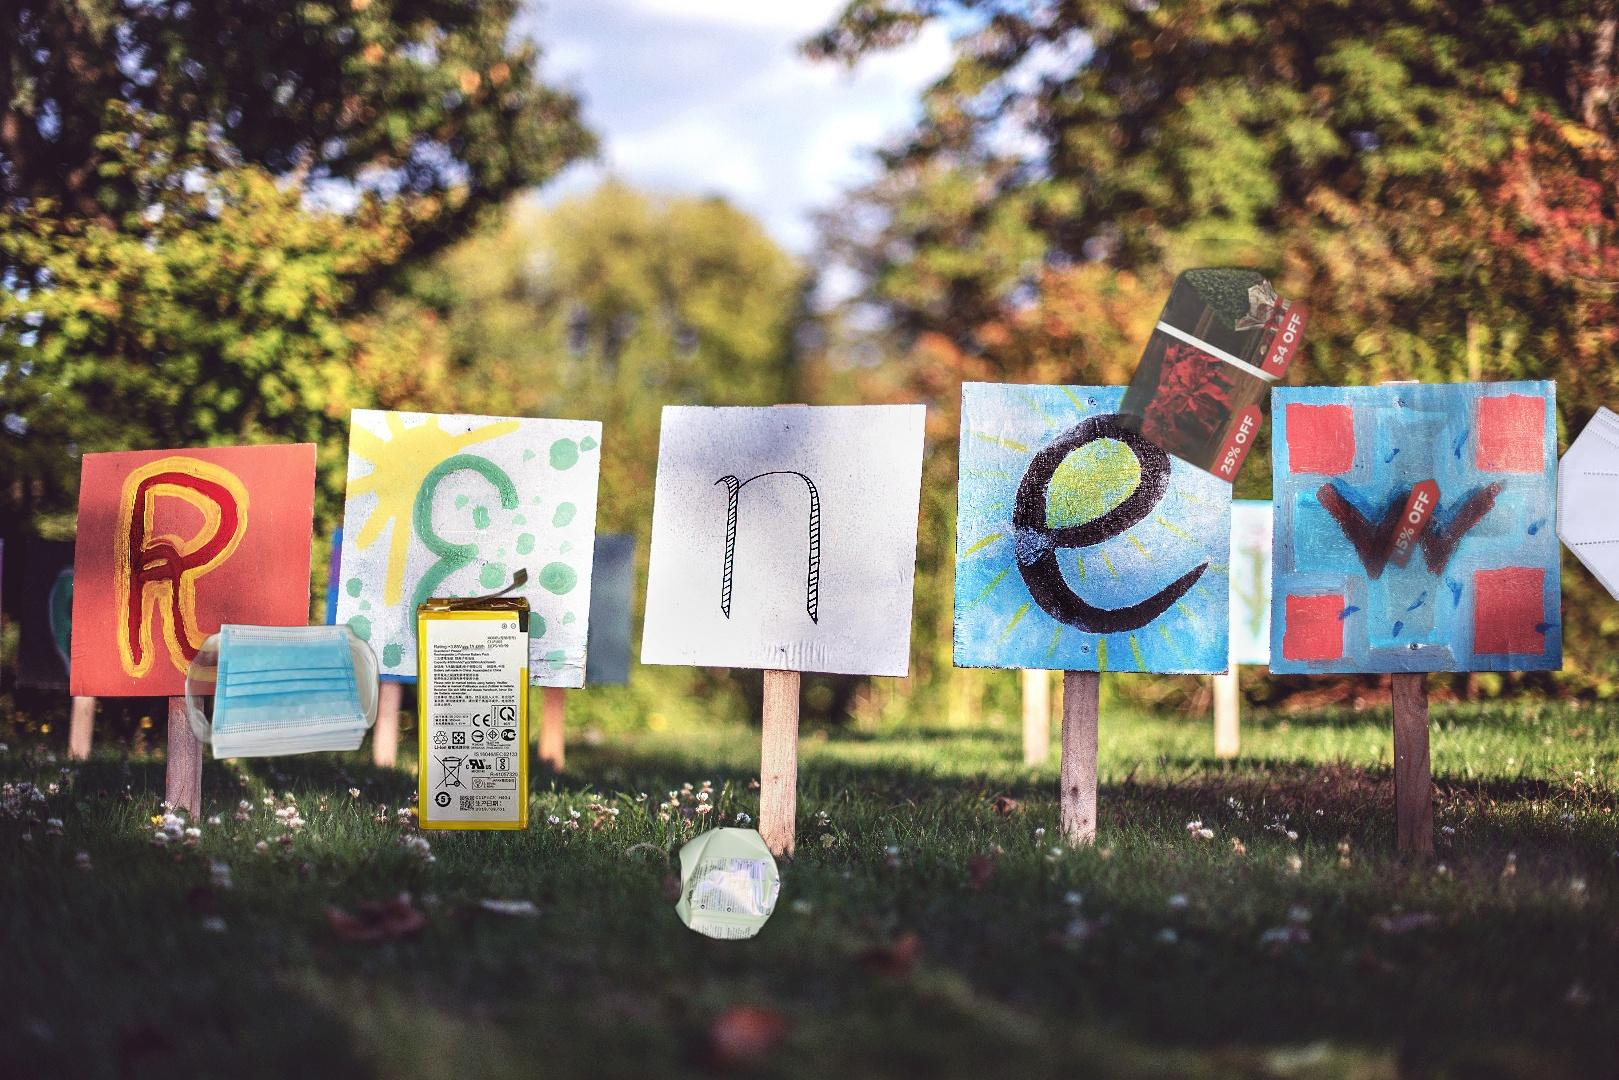battery: (413, 567, 533, 834)
metal-cans: (669, 820, 785, 947)
paper: (1066, 239, 1507, 622)
trash: (184, 620, 385, 763), (1551, 403, 1619, 604)
